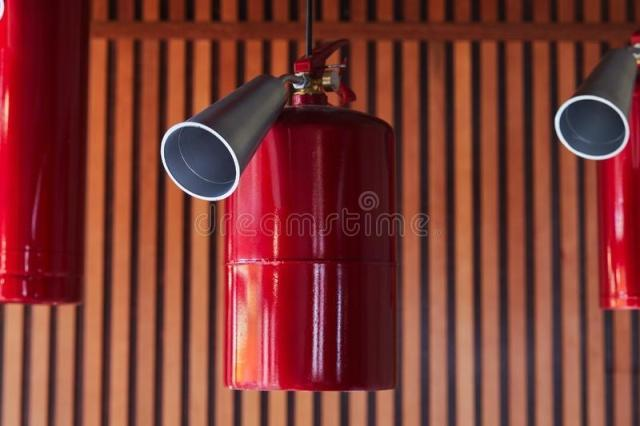APAR: (219, 36, 399, 388)
